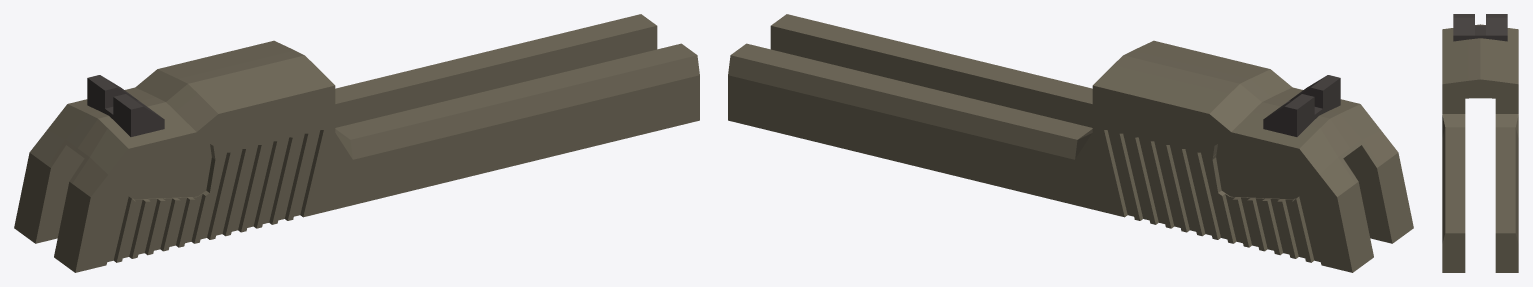
File: Pistol3_03_2.fbx
The picture shows the model from 3 angles, left to right: view 1: azimuth 30°, elevation 25°; view 2: azimuth 150°, elevation 25°; view 3: azimuth 270°, elevation 25°; orthographic projection. The views are drawn at different scales.
Visible parts, largest first — view 1: Pistol3_03_2; view 2: Pistol3_03_2; view 3: Pistol3_03_2.
Boxes of the visible parts, left/top/right/bottom form: Pistol3_03_2: left=14, top=14, right=699, bottom=272; Pistol3_03_2: left=728, top=14, right=1413, bottom=272; Pistol3_03_2: left=1442, top=14, right=1518, bottom=272.
Bounding box in the file's own units: 0.2764 × 0.0596 × 0.0469.
